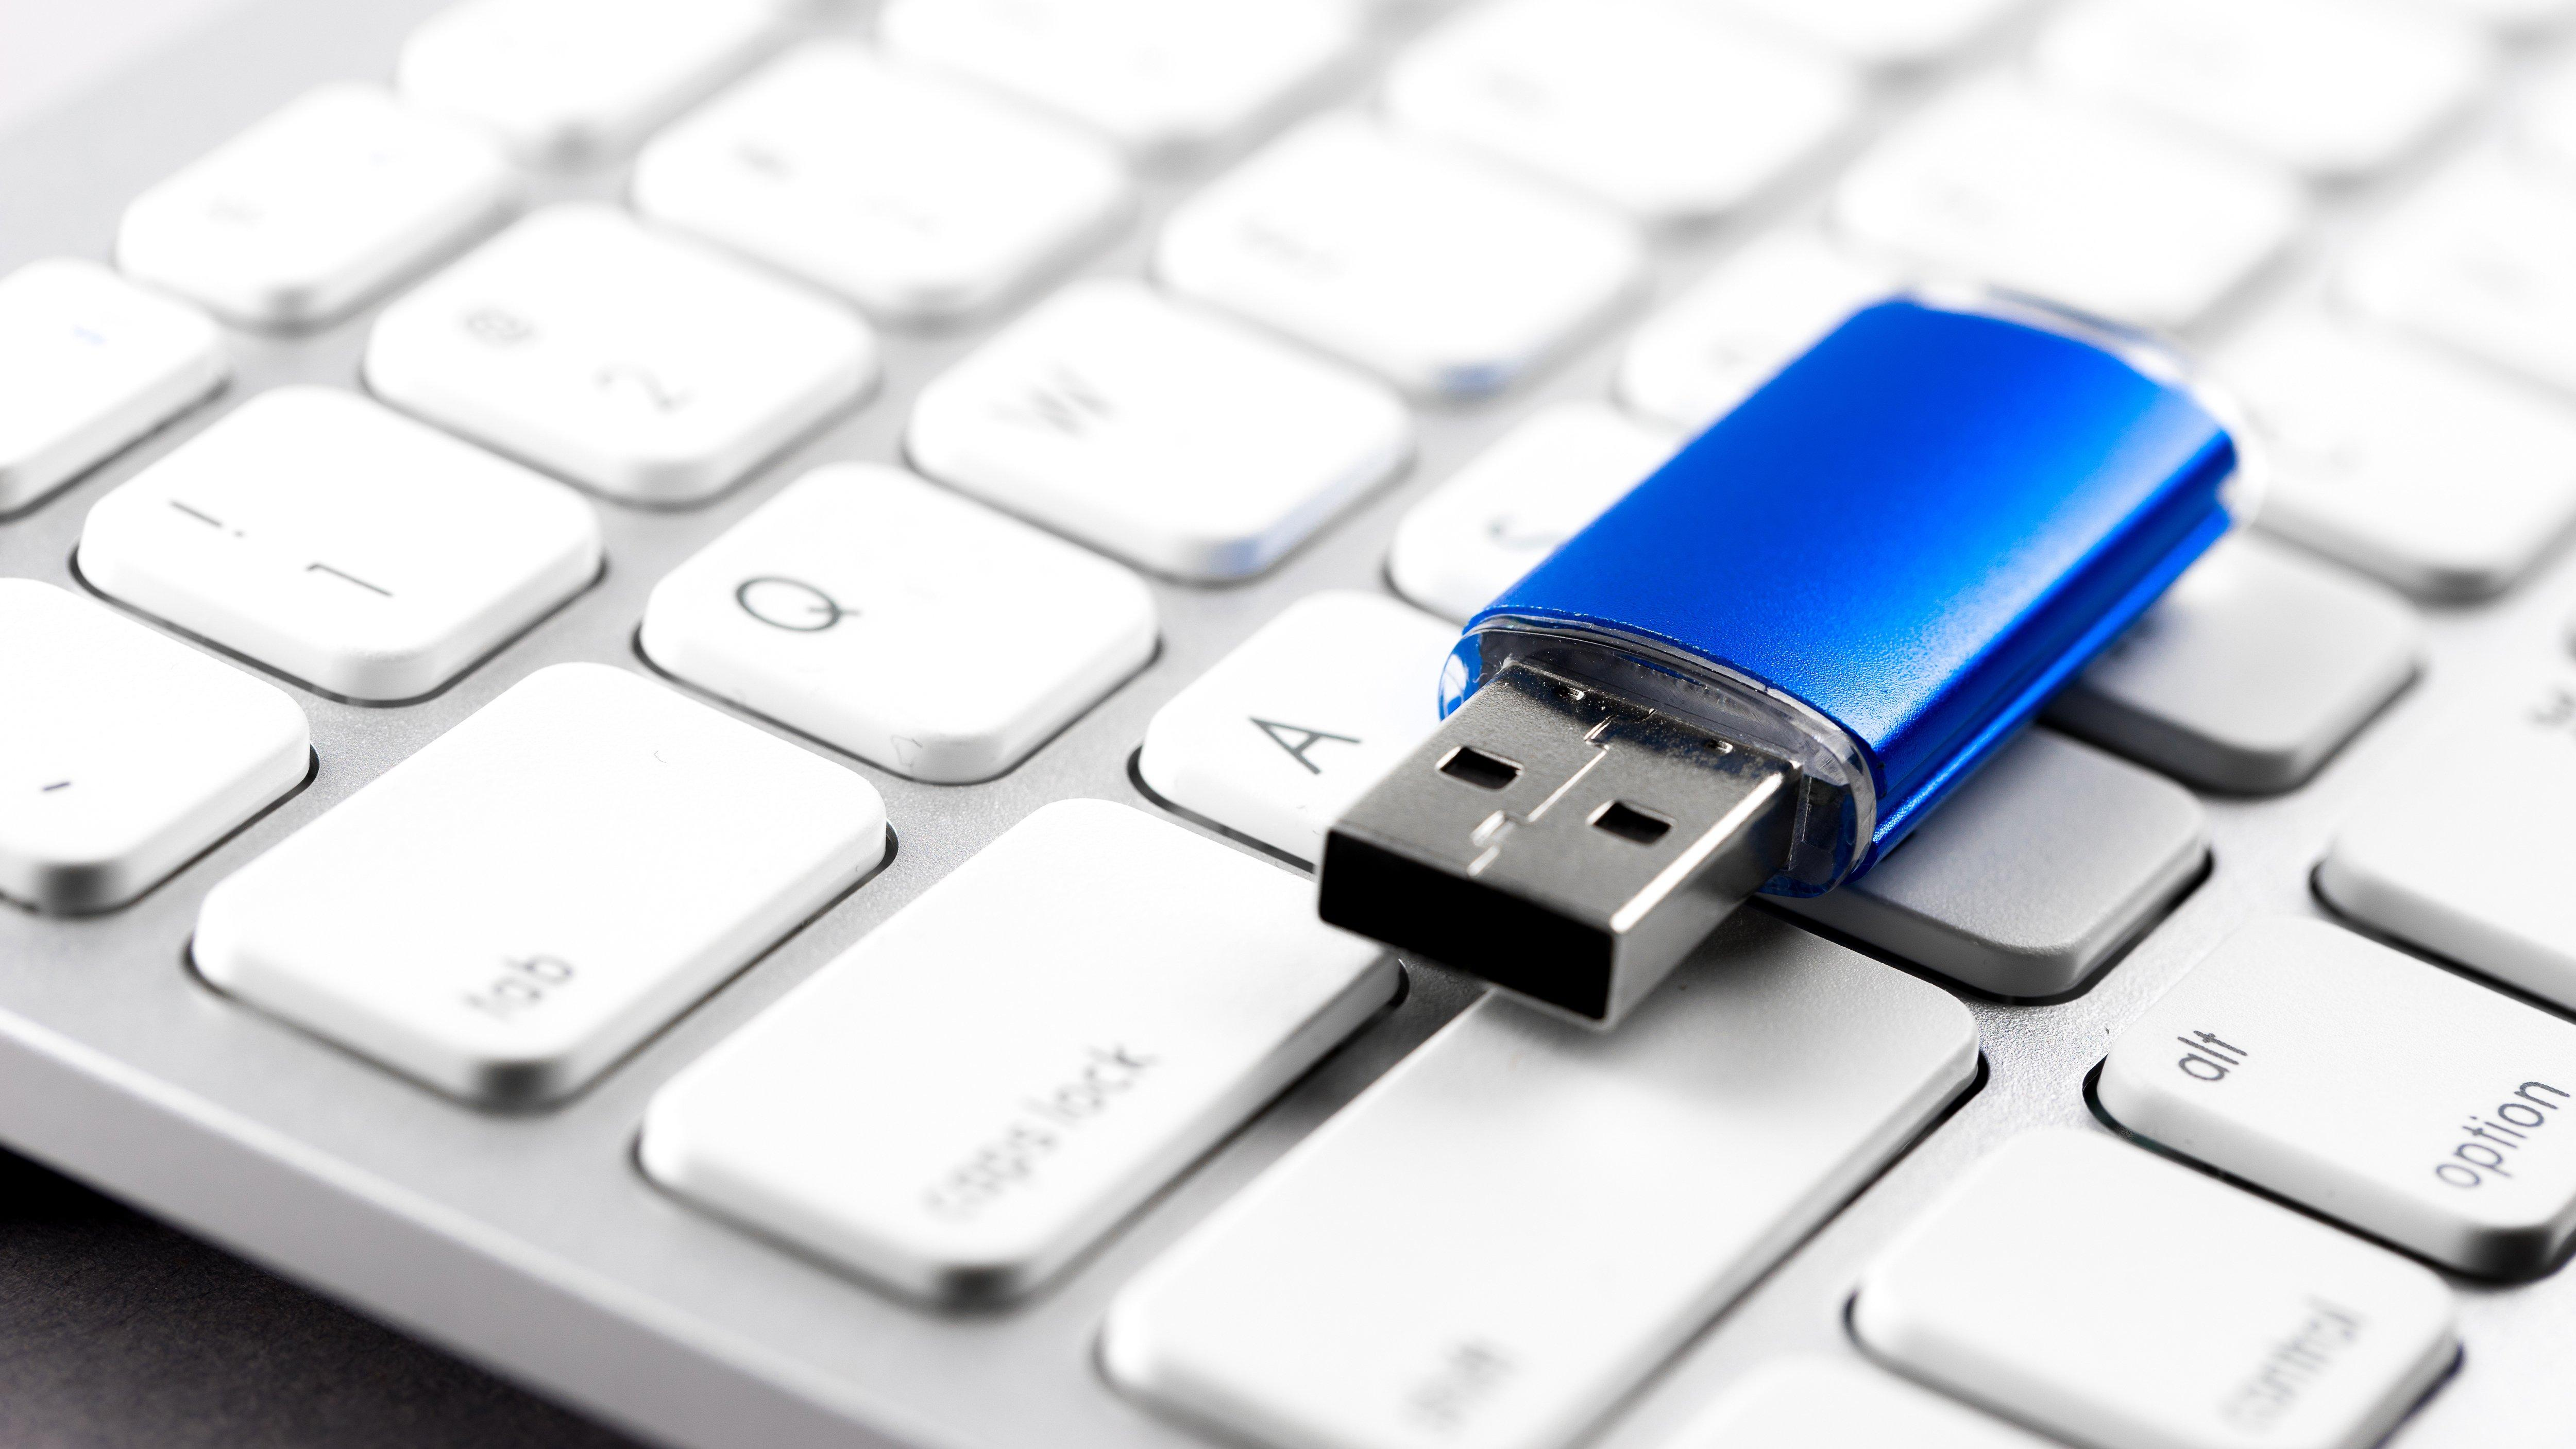USB Flash Drive: (1315, 294, 2245, 1040)
